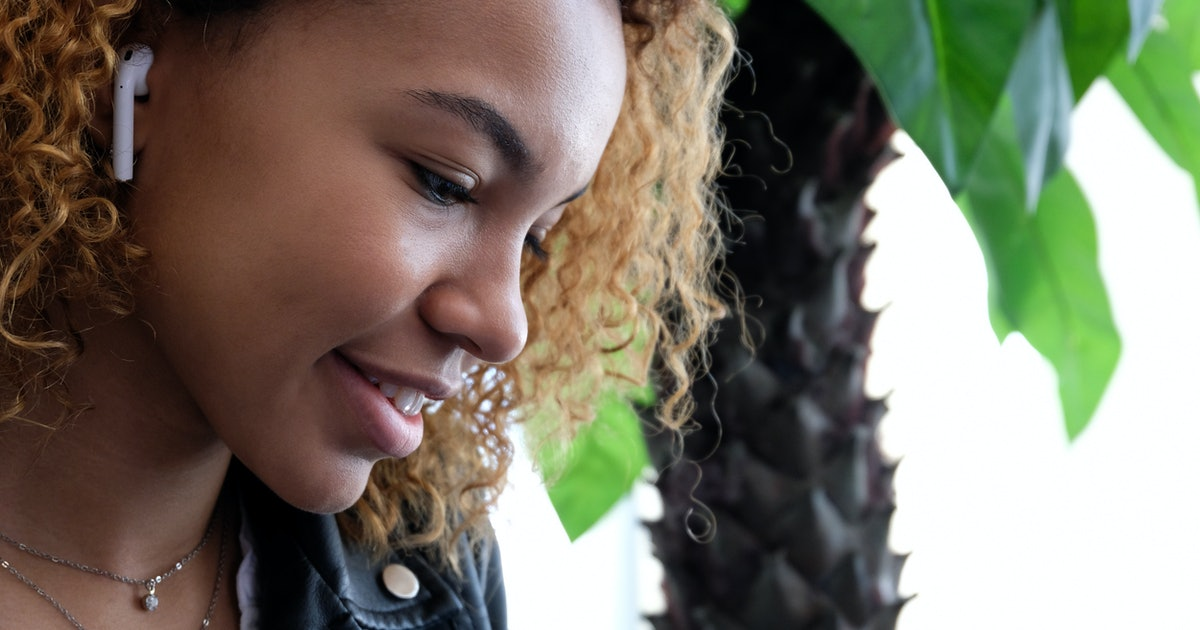earphone: (81, 1, 170, 184)
